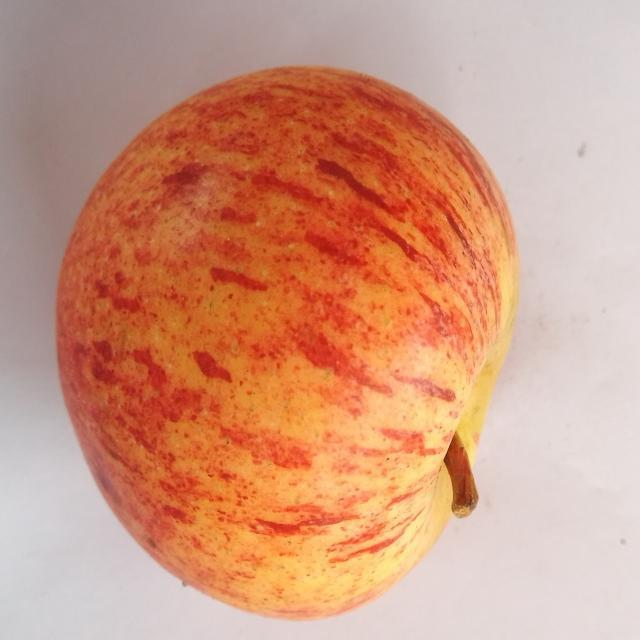Fresh Apple: (48, 66, 520, 622)
